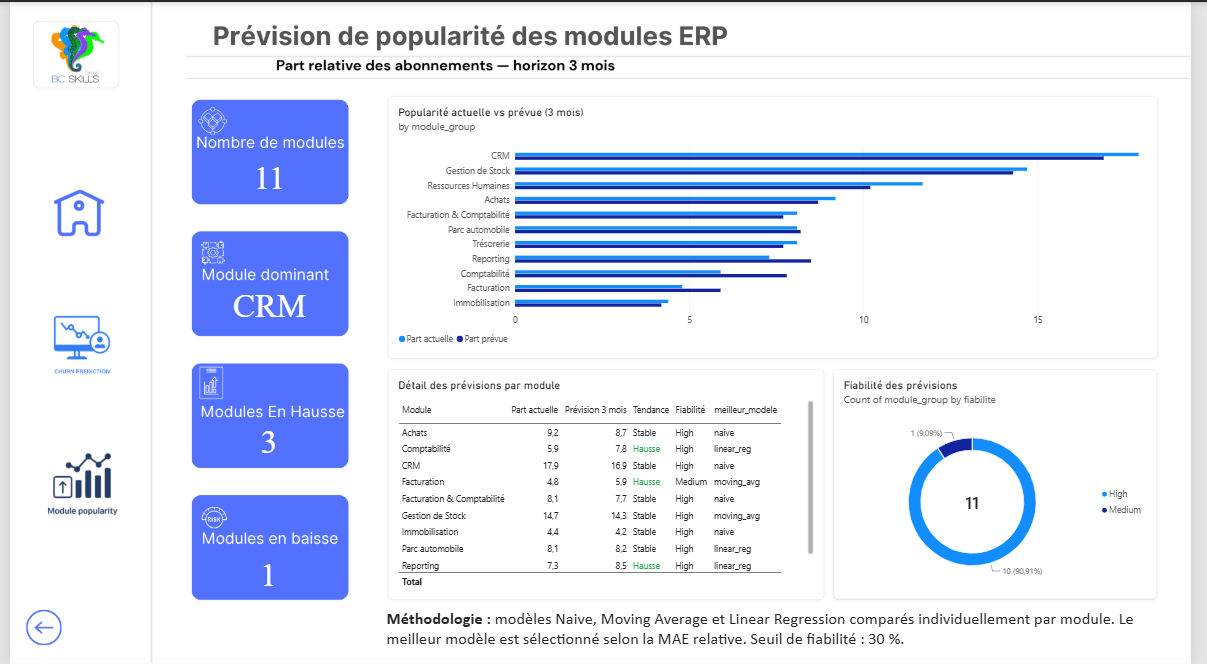

What the dashboard file says about the page in this screenshot:
{"tool":"powerbi","page":{"name":"Popularité des modules","canvas":[1920,1080],"ordinal":2},"visuals":[{"type":"card","fields":{"Values":["dwh_clean prediction_module_popularity.Top Module"]},"box":[303.9,441.4,234.3,98.3],"z":0},{"type":"card","fields":{"Values":["Count(dwh_clean prediction_module_popularity.module_group)"]},"box":[335.6,235.8,170.8,92.2],"z":1000},{"type":"card","fields":{"Values":["dwh_clean prediction_module_popularity.Nb Modules En Baisse"]},"box":[344.7,885.9,152.7,84.7],"z":2000},{"type":"clusteredBarChart","title":"Popularité actuelle vs prévue (3 mois)","fields":{"Category":["dwh_clean prediction_module_popularity.module_group"],"Y":["Sum(dwh_clean prediction_module_popularity.part_actuelle_pct)","Sum(dwh_clean prediction_module_popularity.part_prevue_3m_norm_pct)"]},"box":[613.8,154.2,1251.8,426.3],"z":3000},{"type":"tableEx","title":"Détail des prévisions par module","fields":{"Values":["dwh_clean prediction_module_popularity.module_group","dwh_clean prediction_module_popularity.part_actuelle_pct","dwh_clean prediction_module_popularity.part_prevue_3m_norm_pct","dwh_clean prediction_module_popularity.tendance","dwh_clean prediction_module_popularity.fiabilite","dwh_clean prediction_module_popularity.meilleur_modele"]},"box":[613.8,597.2,709,374.9],"z":4000},{"type":"textbox","box":[613.3,986.2,1251.1,65.4],"z":5000},{"type":"card","fields":{"Values":["dwh_clean prediction_module_popularity.Nb Modules En Hausse"]},"box":[337.1,666.7,169.3,92.2],"z":6000},{"type":"donutChart","title":"Fiabilité des prévisions","fields":{"Category":["dwh_clean prediction_module_popularity.fiabilite"],"Y":["Count(dwh_clean prediction_module_popularity.module_group)"]},"box":[1339.5,597.2,526.1,373.4],"z":7000},{"type":"actionButton","box":[28,988,59.2,64.2],"z":8000},{"type":"actionButton","box":[58,300,100,92],"z":9000},{"type":"actionButton","box":[58,506,100,112],"z":10000}]}

Visuals, with their boxes on the page's 1920x1080 design canvas (x1, y1, x2, y2). These are canvas units, not pixel positions in the 1207x664 screenshot, which may show the page scaled, cropped or inside an application window:
card - dwh_clean prediction_module_popularity.Top Module: detection(304, 441, 538, 540)
card - Count(dwh_clean prediction_module_popularity.module_group): detection(336, 236, 506, 328)
card - dwh_clean prediction_module_popularity.Nb Modules En Baisse: detection(345, 886, 497, 971)
"Popularité actuelle vs prévue (3 mois)" clusteredBarChart: detection(614, 154, 1866, 580)
"Détail des prévisions par module" tableEx: detection(614, 597, 1323, 972)
textbox: detection(613, 986, 1864, 1052)
card - dwh_clean prediction_module_popularity.Nb Modules En Hausse: detection(337, 667, 506, 759)
"Fiabilité des prévisions" donutChart: detection(1340, 597, 1866, 971)
actionButton: detection(28, 988, 87, 1052)
actionButton: detection(58, 300, 158, 392)
actionButton: detection(58, 506, 158, 618)
